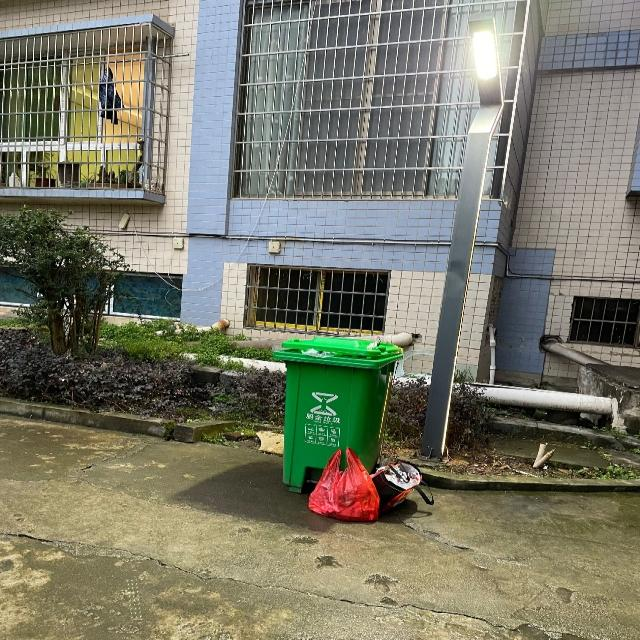garbage: (306, 447, 433, 522)
overflow: (270, 335, 404, 493)
